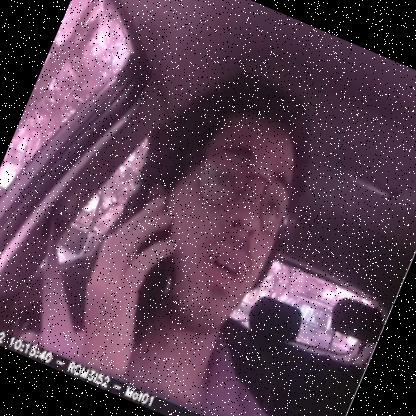phone: (88, 180, 209, 337)
